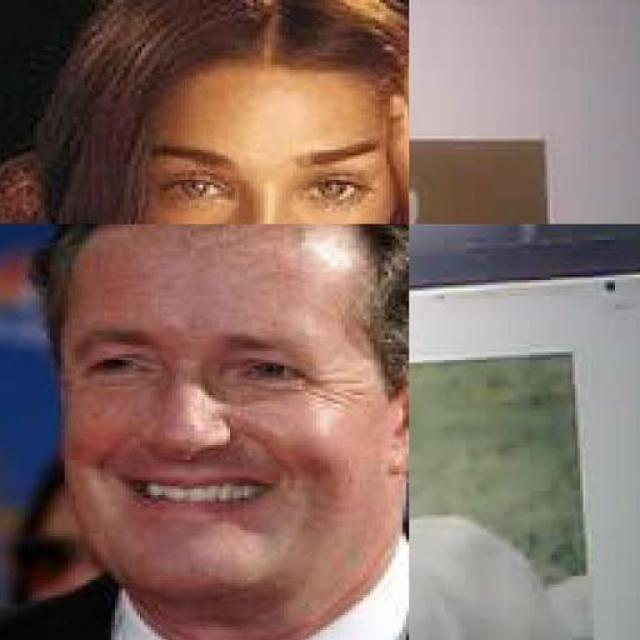bareface: (49, 222, 396, 610)
